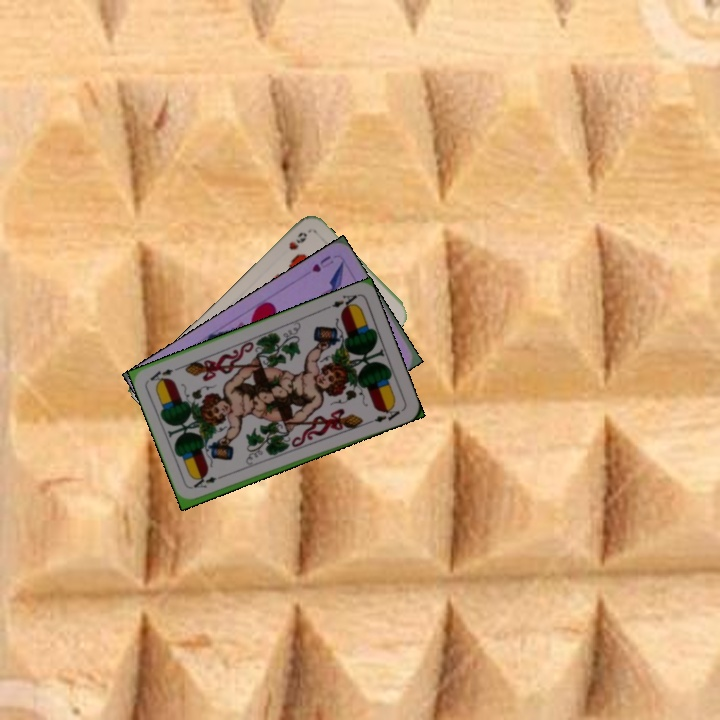EA: (321, 290, 361, 313), (189, 470, 228, 491)
H9: (285, 228, 310, 253)
HU: (308, 251, 337, 275)
